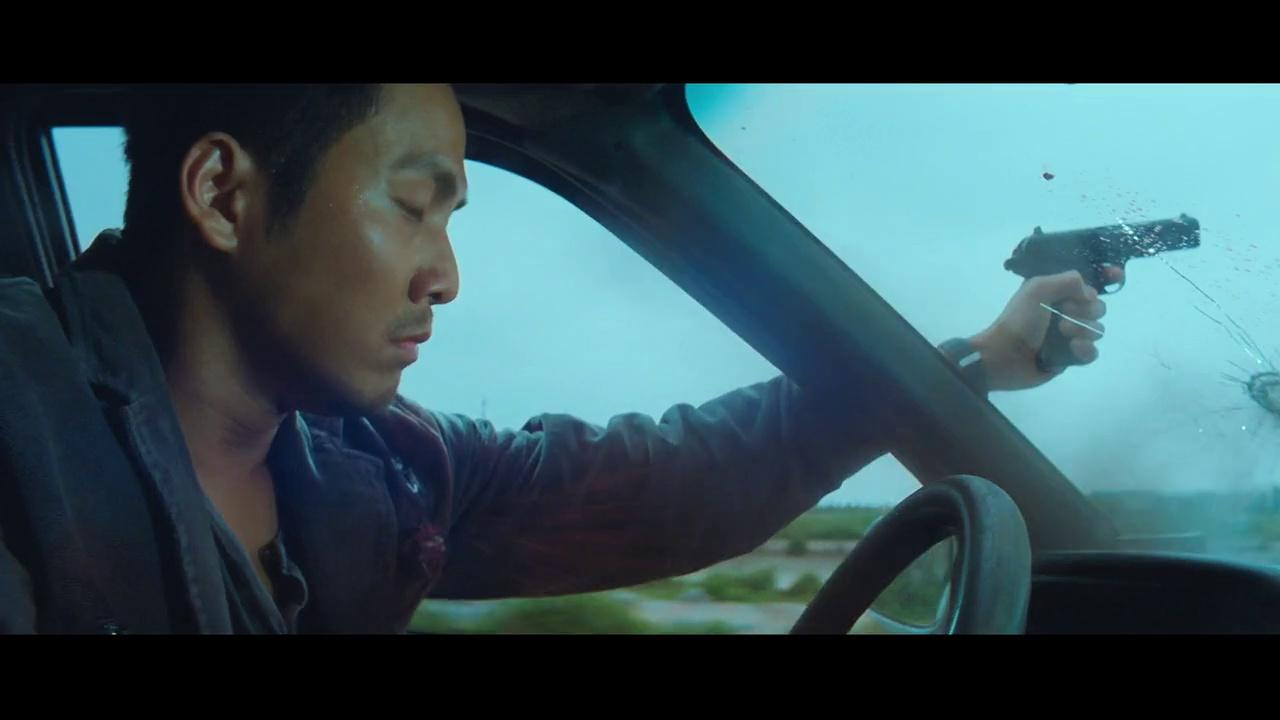gun: (981, 194, 1209, 373)
